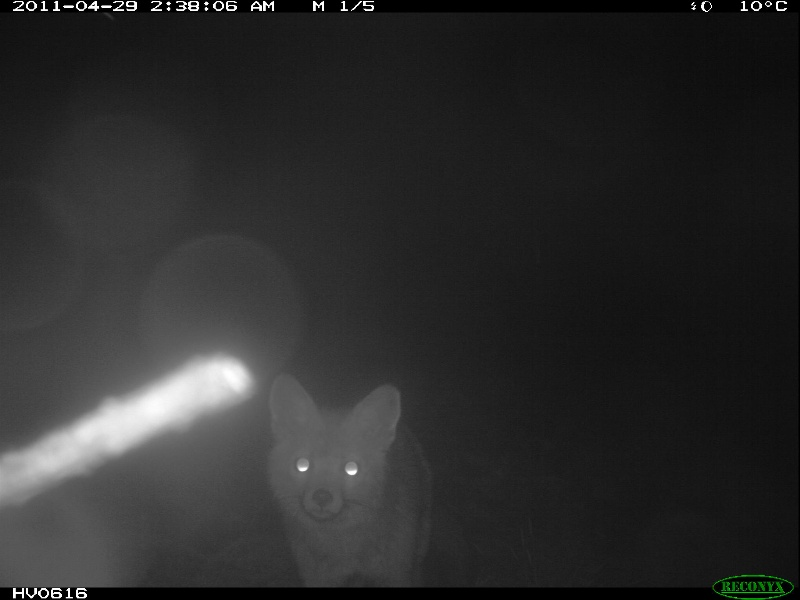fox: (258, 363, 446, 588)
